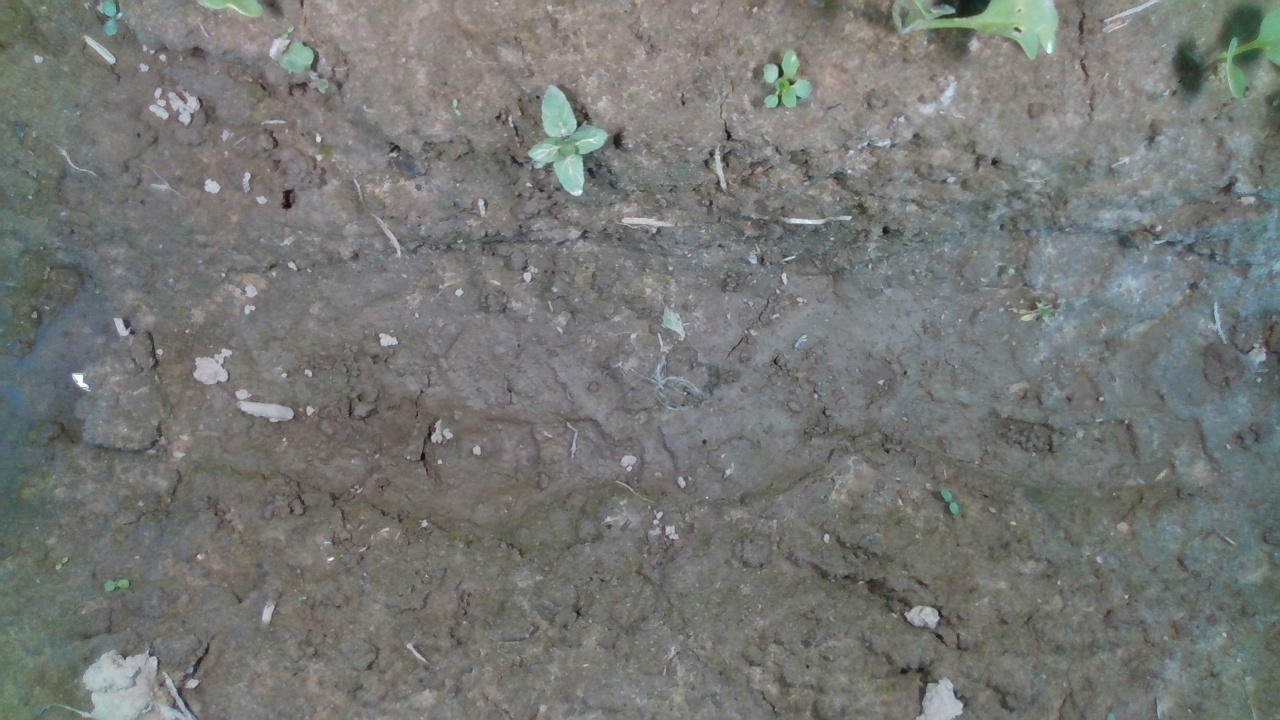weed: (930, 484, 968, 518), (98, 576, 143, 594), (49, 555, 75, 570)
